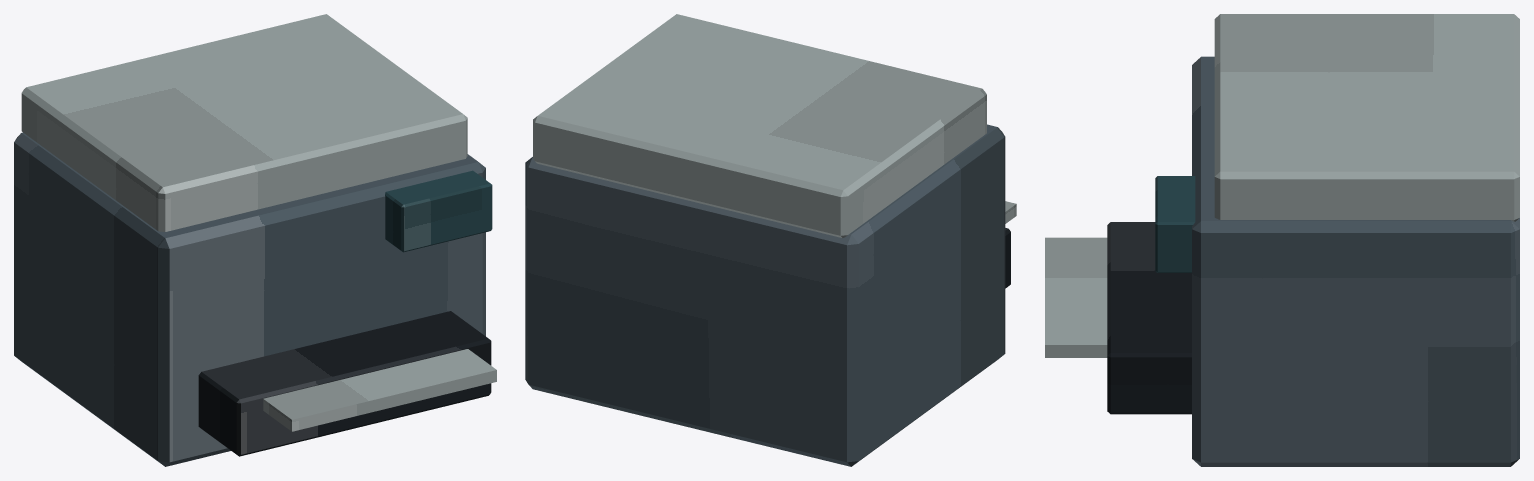
File: office_printer_charcoal.glb
The picture shows the model from 3 angles, left to right: view 1: azimuth 30°, elevation 25°; view 2: azimuth 150°, elevation 25°; view 3: azimuth 270°, elevation 25°; orthographic projection. The views are drawn at different scales.
Visible parts, largest first — view 1: PrinterBody, ScannerLid, PaperTray, Paper, ControlPanel; view 2: PrinterBody, ScannerLid; view 3: PrinterBody, ScannerLid, PaperTray, Paper, ControlPanel.
Part boxes in pixels (x1,y1,x2,y2): PrinterBody: [14, 132, 485, 466]; ScannerLid: [21, 14, 467, 231]; PaperTray: [198, 311, 491, 456]; Paper: [263, 349, 496, 431]; ControlPanel: [385, 170, 492, 252]; PrinterBody: [525, 124, 1005, 466]; ScannerLid: [533, 14, 986, 237]; PrinterBody: [1192, 56, 1519, 466]; ScannerLid: [1214, 14, 1519, 221]; PaperTray: [1107, 222, 1191, 414]; Paper: [1045, 237, 1107, 357]; ControlPanel: [1155, 176, 1195, 272].
Size of the model in its own units: 0.72 by 0.57 by 0.84.
1 material, 1 textured.
